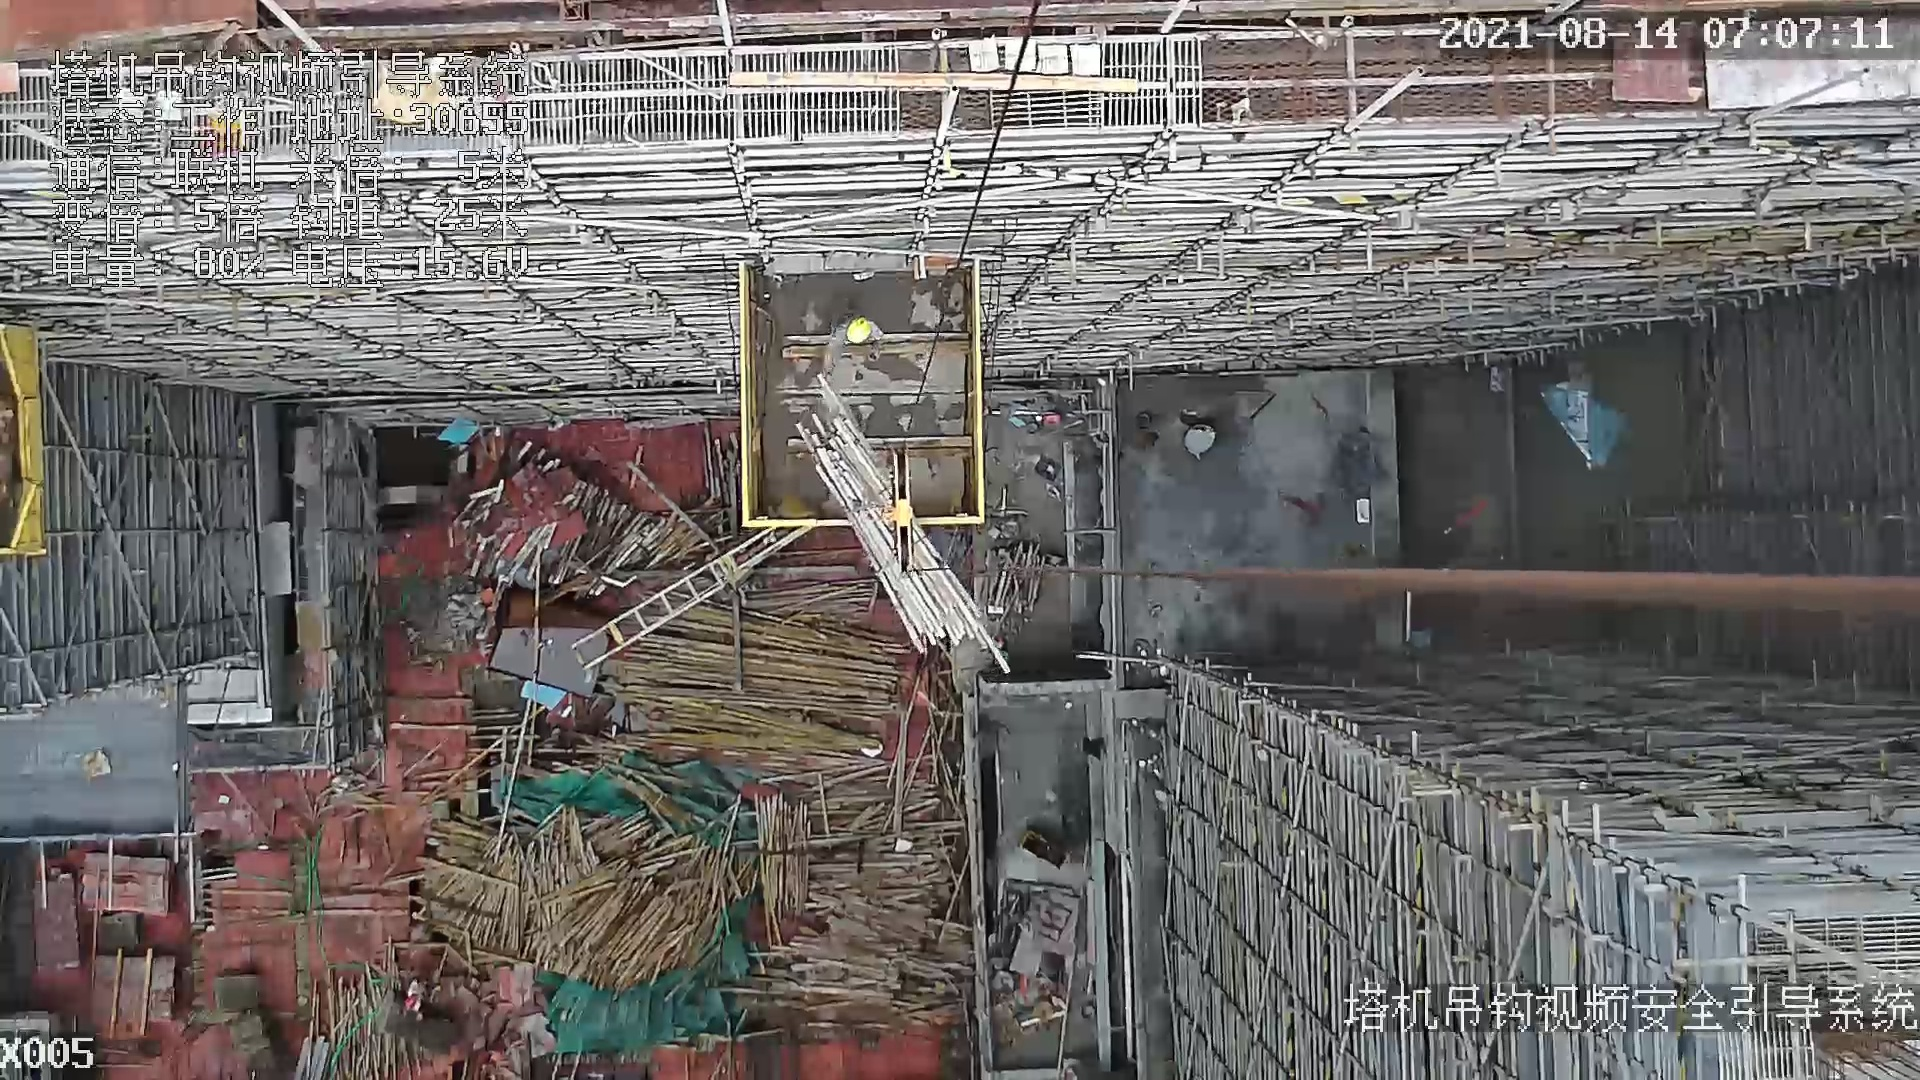helmet: (845, 316, 874, 346)
hook: (885, 445, 922, 578)
person: (832, 313, 888, 371)
